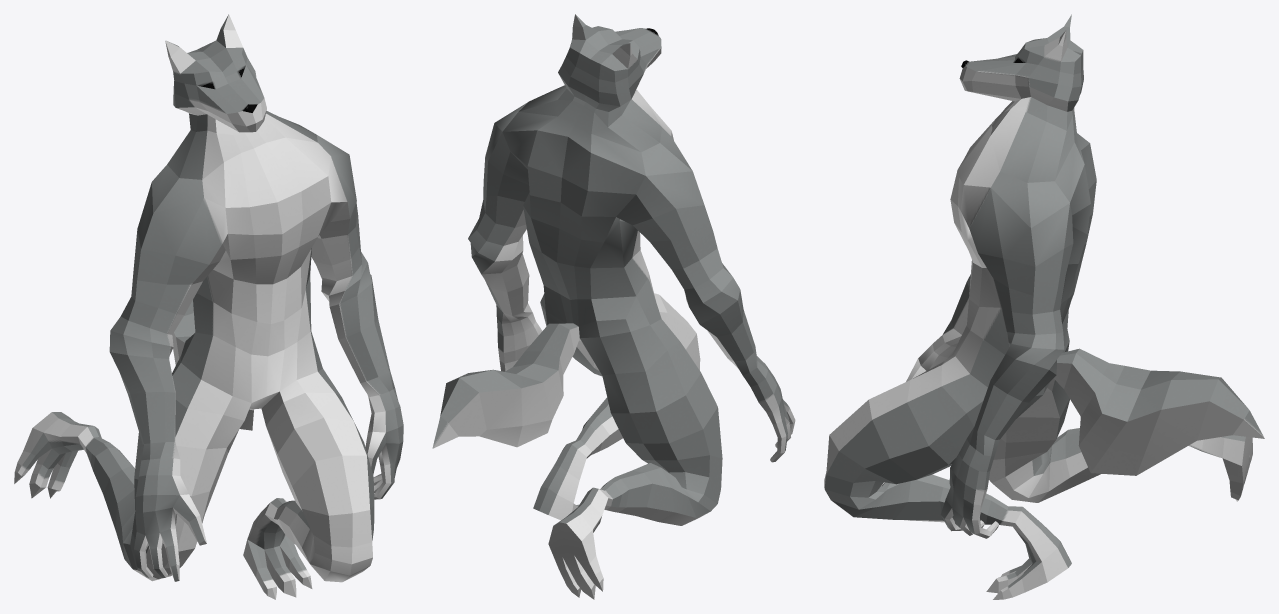
The model's file is WolfDead(27).obj.
3 renders of one model, left to right at view 1: azimuth 30°, elevation 25°; view 2: azimuth 150°, elevation 25°; view 3: azimuth 270°, elevation 25°, orthographic. The views are drawn at different scales.
Visible parts, largest first — view 1: Box001; view 2: Box001; view 3: Box001.
Part boxes in pixels (x1,y1,x2,y2): Box001: [14, 14, 403, 599]; Box001: [432, 14, 795, 599]; Box001: [824, 14, 1264, 599].
Bounding box in the file's own units: 67.79 × 127 × 92.39.
